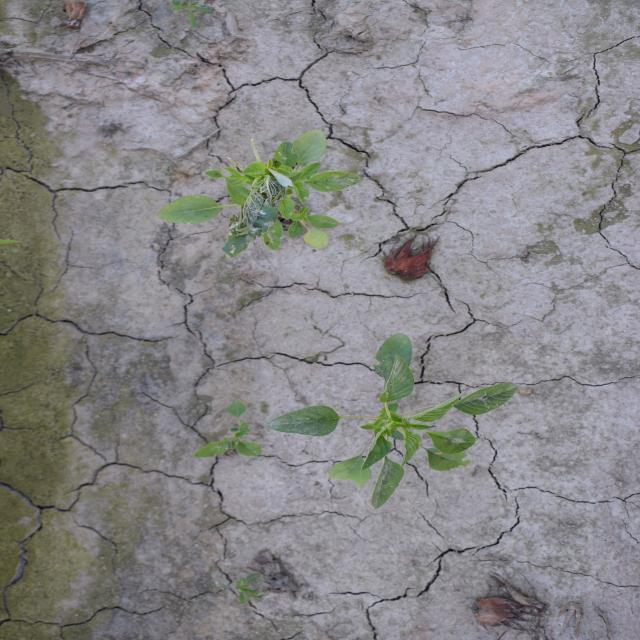PalmerAmaranth: (264, 331, 520, 511), (156, 128, 364, 258), (190, 401, 268, 462)
